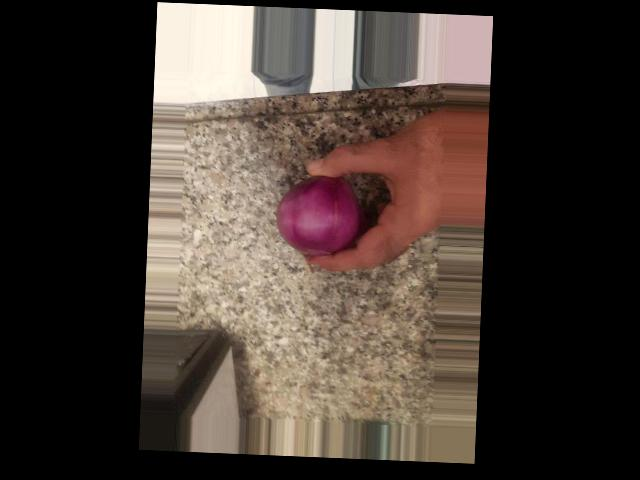onion: (278, 170, 358, 260)
